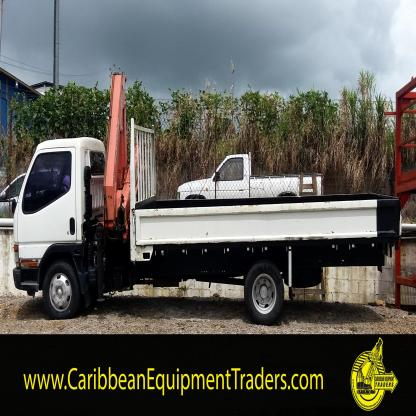truck: (15, 72, 404, 319)
